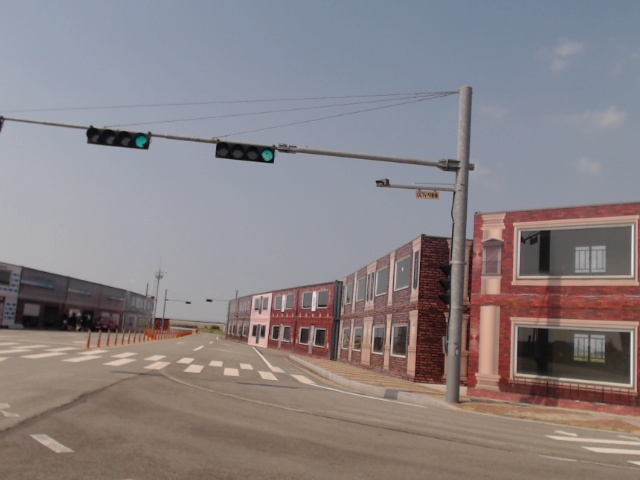straight_green_4: (215, 140, 274, 164), (88, 128, 149, 149)
